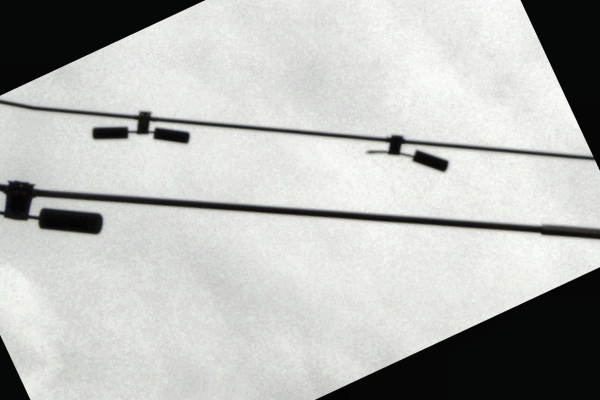damper: (85, 106, 193, 147)
damper_defect: (357, 132, 451, 174)
